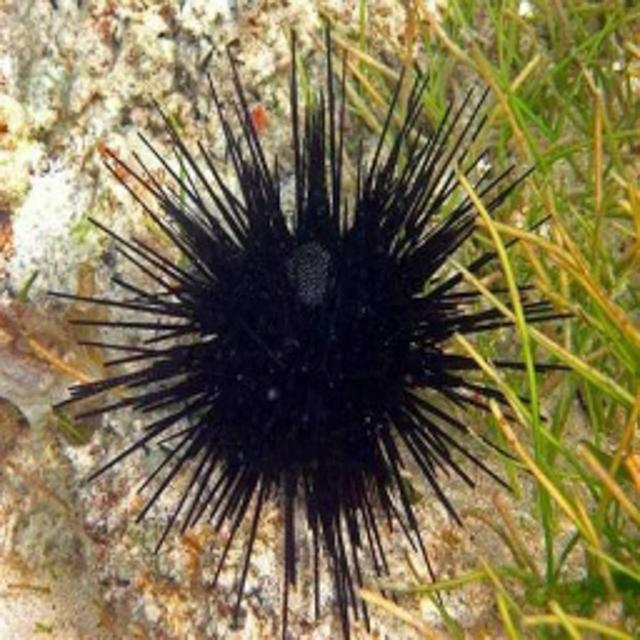Urchin: (64, 25, 580, 611)
